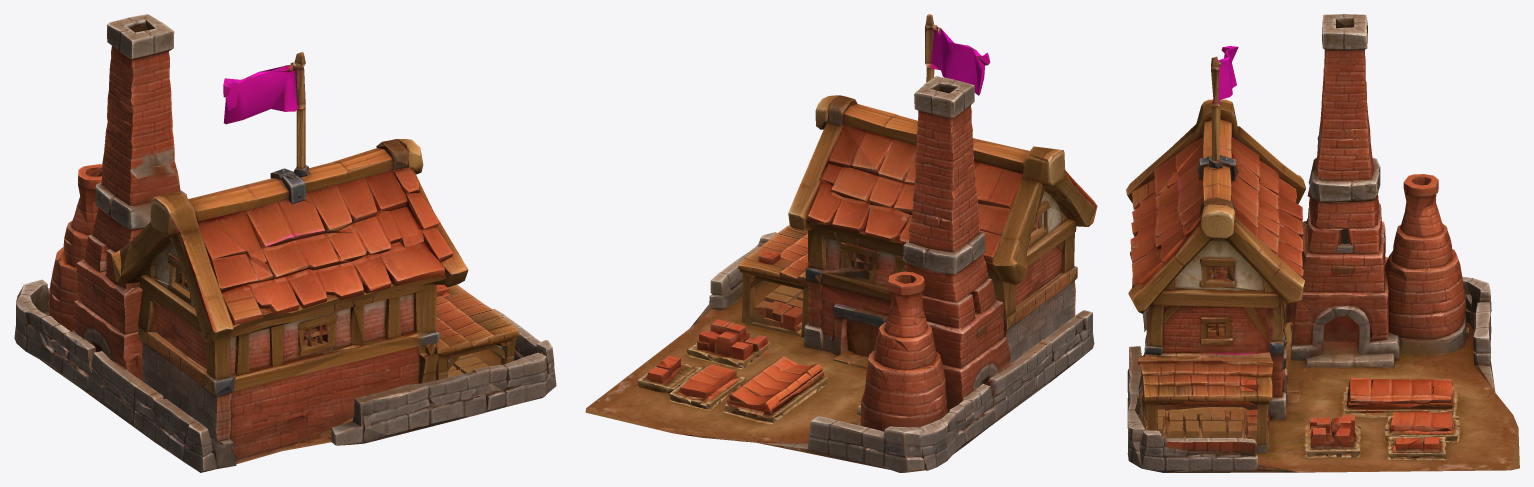
File: brickworks2.glb
The picture shows the model from 3 angles, left to right: view 1: azimuth 30°, elevation 25°; view 2: azimuth 150°, elevation 25°; view 3: azimuth 270°, elevation 25°; orthographic projection. The views are drawn at different scales.
Visible parts, largest first — view 1: Mesh_0; view 2: Mesh_0; view 3: Mesh_0.
Boxes of the visible parts, x1,y1,x2,y2 form: Mesh_0: (14,14,556,472); Mesh_0: (585,14,1097,472); Mesh_0: (1126,14,1519,472).
Bounding box in the file's own units: 1.82 × 1.71 × 1.9.
1 material, 1 textured.
